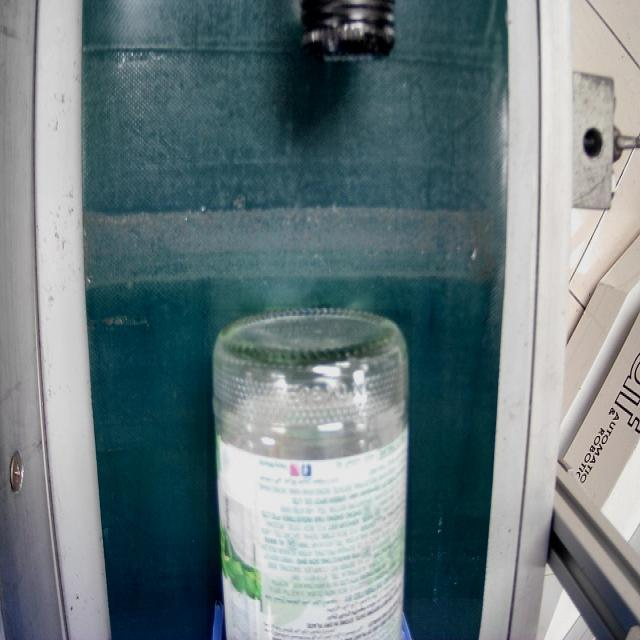BotolKaca: (210, 305, 411, 639)
